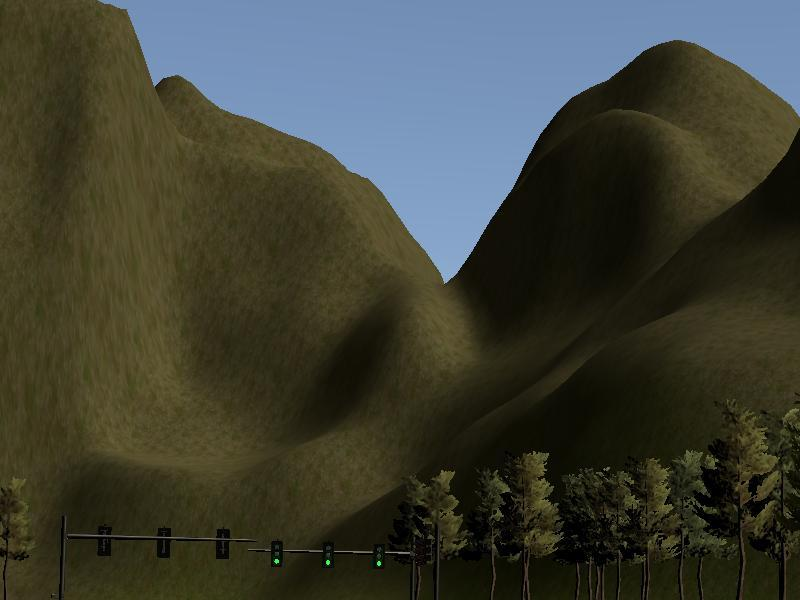Green: (372, 542, 386, 570), (270, 538, 283, 567), (322, 541, 334, 569)
